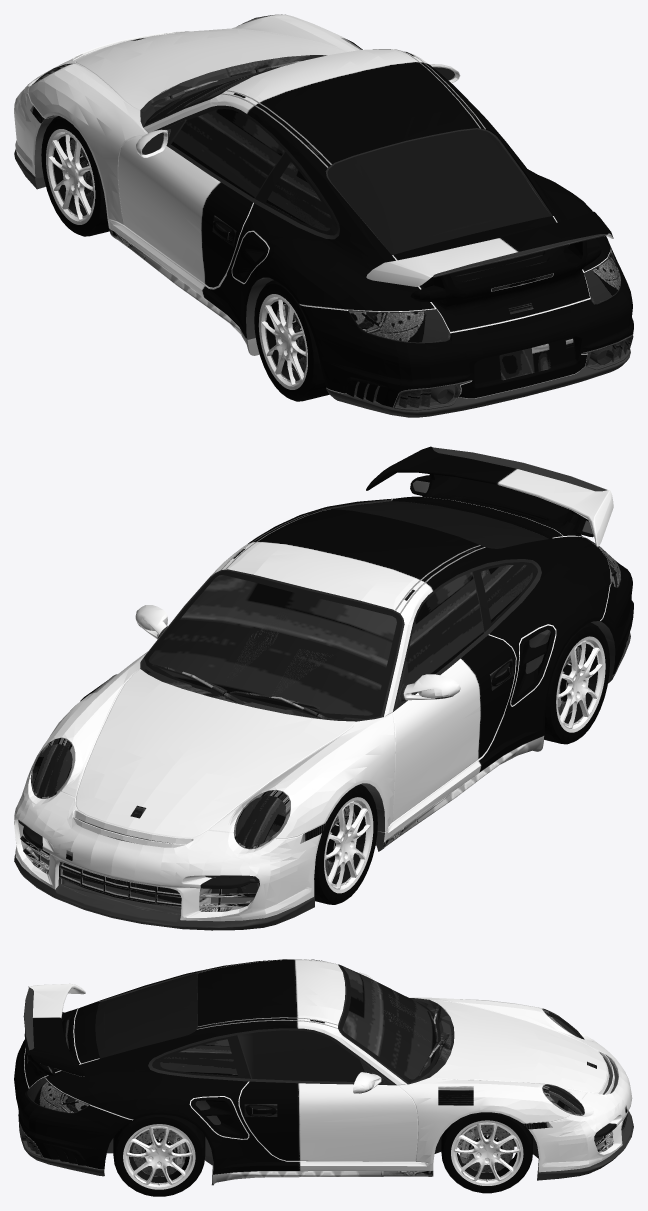
File: Porsche_911_GT2_Styled.obj
3 renders of one model, top to bottom at view 1: azimuth 30°, elevation 25°; view 2: azimuth 150°, elevation 25°; view 3: azimuth 270°, elevation 25°, orthographic. The views are drawn at different scales.
Parts seen in each view (by area): view 1: Porsche_911_GT2; view 2: Porsche_911_GT2; view 3: Porsche_911_GT2.
Boxes of the visible parts, x1=… form: Porsche_911_GT2: x1=14, y1=14, x2=633, y2=417; Porsche_911_GT2: x1=14, y1=446, x2=633, y2=930; Porsche_911_GT2: x1=14, y1=959, x2=633, y2=1196.
Size of the model in its own units: 1.96 by 1.27 by 4.46.
1 material, 1 textured.
